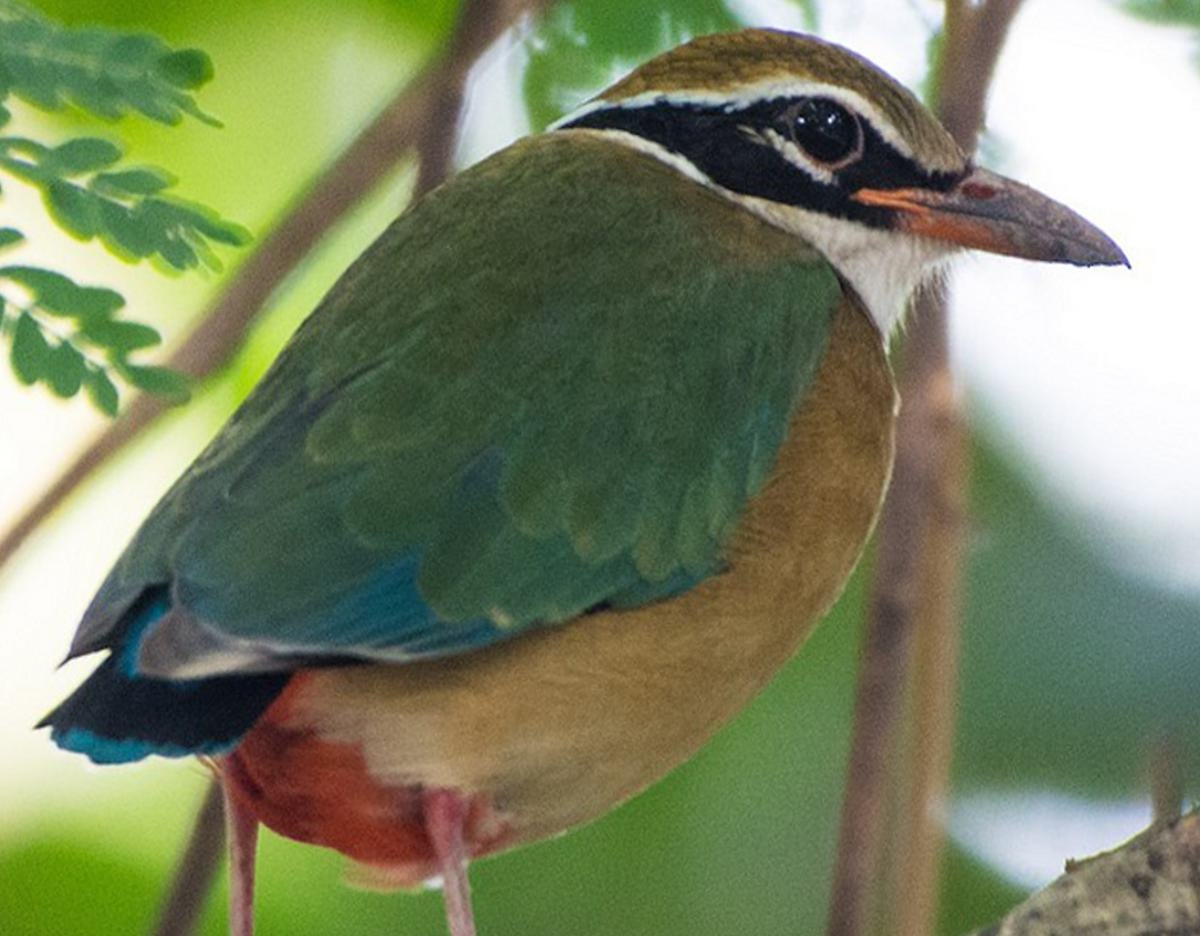pitta: (88, 46, 1080, 889)
